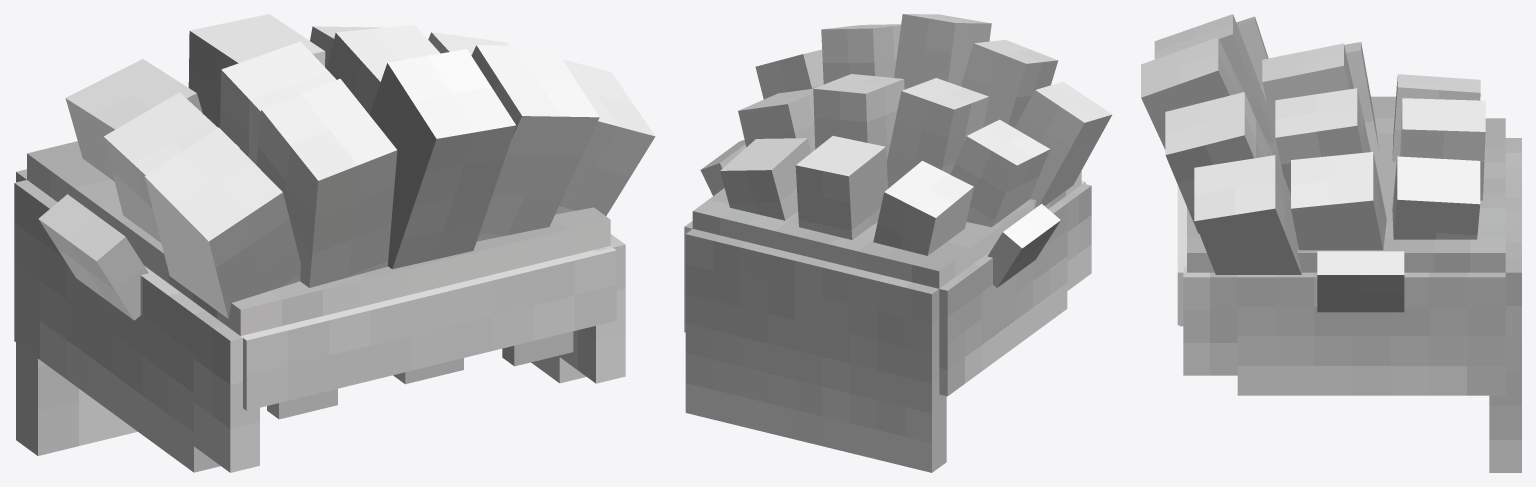
The model's file is spiky-up-textured.gltf.
3 renders of one model, left to right at view 1: azimuth 30°, elevation 25°; view 2: azimuth 150°, elevation 25°; view 3: azimuth 270°, elevation 25°, orthographic. The views are drawn at different scales.
Parts seen in each view (by area): view 1: 앞 머리선, 옆머리 L, 윗머리 덩어리 3, 윗머리 덩어리 2, 정수리, 윗머리 덩어리 1, 윗머리 덩어리 4, 옆 앞쪽 L, 윗머리 덩어리 5, 뒤통수, 윗머리 덩어리 6, 옆 삐침 L (+11 smaller); view 2: 뒤통수, 옆머리 L, 정수리, 윗머리 덩어리 11, 윗머리 덩어리 7, 윗머리 덩어리 6, 윗머리 덩어리 1, 윗머리 덩어리 10, 윗머리 덩어리 8, 윗머리 덩어리 12, 윗머리 덩어리 3, 윗머리 덩어리 2 (+6 smaller); view 3: 옆머리 R, 윗머리 덩어리 5, 정수리, 윗머리 덩어리 9, 윗머리 덩어리 12, 뒤통수, 윗머리 덩어리 4, 윗머리 덩어리 8, 옆 앞쪽 R, 윗머리 덩어리 3, 옆 삐침 R, 윗머리 덩어리 11 (+7 smaller).
Part boxes in pixels (box(x1,y1,x2,y2)): 앞 머리선: box(241, 246, 616, 410); 옆머리 L: box(14, 180, 220, 472); 윗머리 덩어리 3: box(369, 49, 515, 269); 윗머리 덩어리 2: box(256, 78, 397, 287); 정수리: box(27, 141, 610, 335); 윗머리 덩어리 1: box(144, 127, 300, 318); 윗머리 덩어리 4: box(471, 45, 599, 241); 옆 앞쪽 L: box(194, 311, 259, 472); 윗머리 덩어리 5: box(555, 59, 655, 215); 뒤통수: box(16, 169, 137, 455); 윗머리 덩어리 6: box(103, 92, 239, 242); 옆 삐침 L: box(38, 194, 148, 320); 뒤통수: box(685, 229, 946, 472); 옆머리 L: box(939, 201, 1067, 396); 정수리: box(692, 171, 1081, 288); 윗머리 덩어리 11: box(795, 136, 888, 239); 윗머리 덩어리 7: box(886, 78, 988, 188); 윗머리 덩어리 6: box(950, 119, 1050, 227); 윗머리 덩어리 1: box(1014, 81, 1112, 207); 윗머리 덩어리 10: box(873, 161, 973, 255); 윗머리 덩어리 8: box(813, 74, 904, 161); 윗머리 덩어리 12: box(720, 138, 811, 220); 윗머리 덩어리 3: box(894, 14, 991, 89); 윗머리 덩어리 2: box(961, 40, 1058, 127); 옆머리 R: box(1237, 272, 1505, 395); 윗머리 덩어리 5: box(1194, 155, 1302, 274); 정수리: box(1187, 118, 1505, 272); 윗머리 덩어리 9: box(1291, 152, 1386, 250); 윗머리 덩어리 12: box(1392, 156, 1480, 239); 뒤통수: box(1489, 138, 1521, 472); 윗머리 덩어리 4: box(1165, 92, 1270, 233); 윗머리 덩어리 8: box(1275, 88, 1370, 193); 옆 앞쪽 R: box(1183, 266, 1237, 375); 윗머리 덩어리 3: box(1141, 37, 1272, 155); 옆 삐침 R: box(1317, 251, 1404, 312); 윗머리 덩어리 11: box(1400, 98, 1485, 200).
Bounding box in the file's own units: 0.724 × 0.6897 × 0.6571.
Materials: 1 (1 with a texture image).
